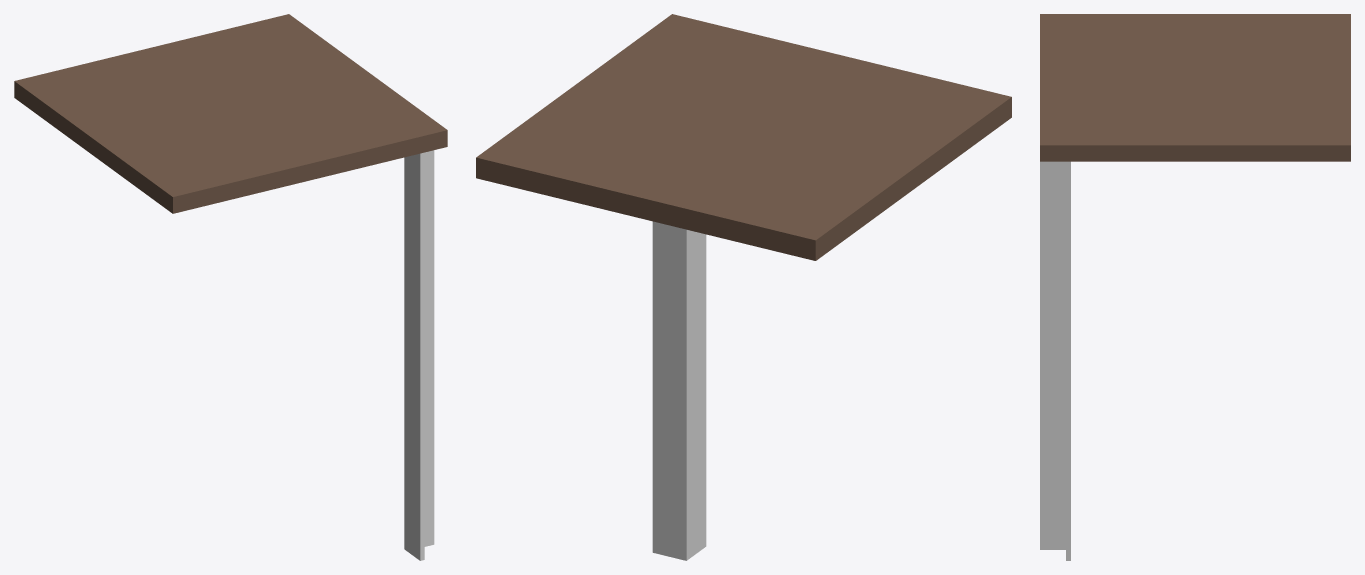
Rendered from KitchenCorner1_C1_01.fbx.
The picture shows the model from 3 angles, left to right: view 1: azimuth 30°, elevation 25°; view 2: azimuth 150°, elevation 25°; view 3: azimuth 270°, elevation 25°; orthographic projection. The views are drawn at different scales.
Parts seen in each view (by area): view 1: KitchenCorner1_C1_01; view 2: KitchenCorner1_C1_01; view 3: KitchenCorner1_C1_01.
Part boxes in pixels (bbox=[...]): KitchenCorner1_C1_01: bbox=[14, 14, 447, 560]; KitchenCorner1_C1_01: bbox=[476, 14, 1011, 560]; KitchenCorner1_C1_01: bbox=[1040, 14, 1350, 560].
Bounding box in the file's own units: 60 × 88.5 × 60.
